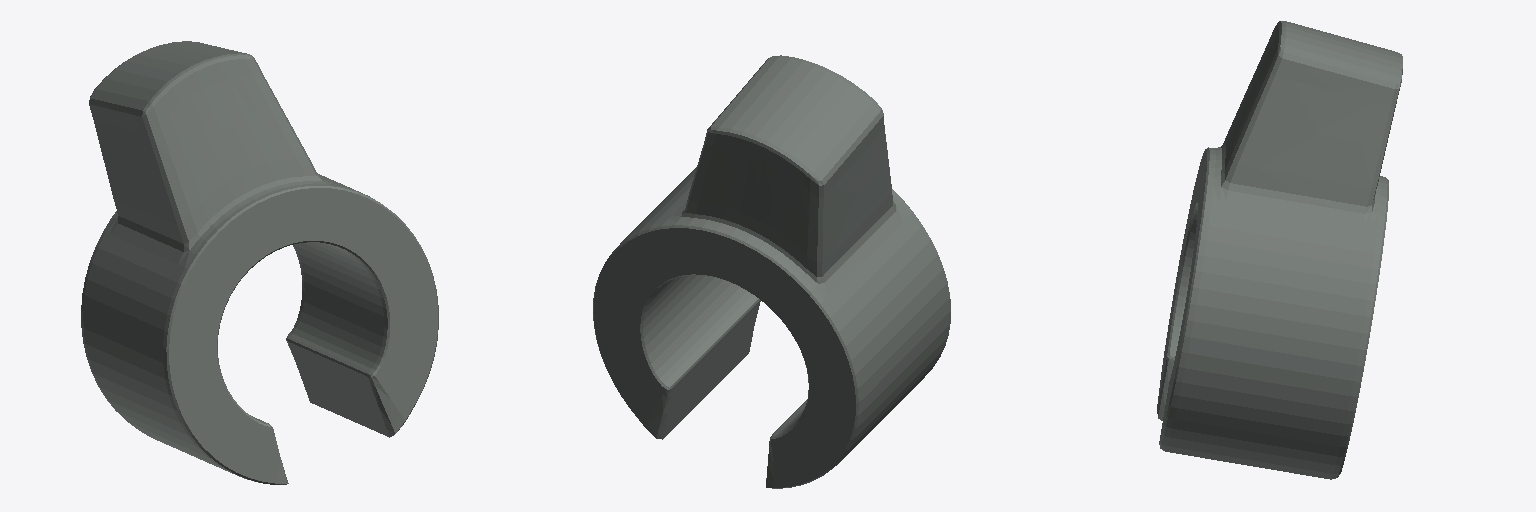
The picture shows the model from 3 angles: view 1: azimuth 30°, elevation 25°; view 2: azimuth 150°, elevation 25°; view 3: azimuth 270°, elevation 25°; orthographic projection.
Parts seen in each view (by area): view 1: ManoIzq; view 2: ManoIzq; view 3: ManoIzq.
Part boxes in pixels (left/top/right/bottom): ManoIzq: left=81, top=41, right=438, bottom=484; ManoIzq: left=593, top=55, right=950, bottom=488; ManoIzq: left=1157, top=21, right=1402, bottom=479.
Size of the model in its own units: 7.59 by 10.96 by 5.94.
1 materials, 1 textured.